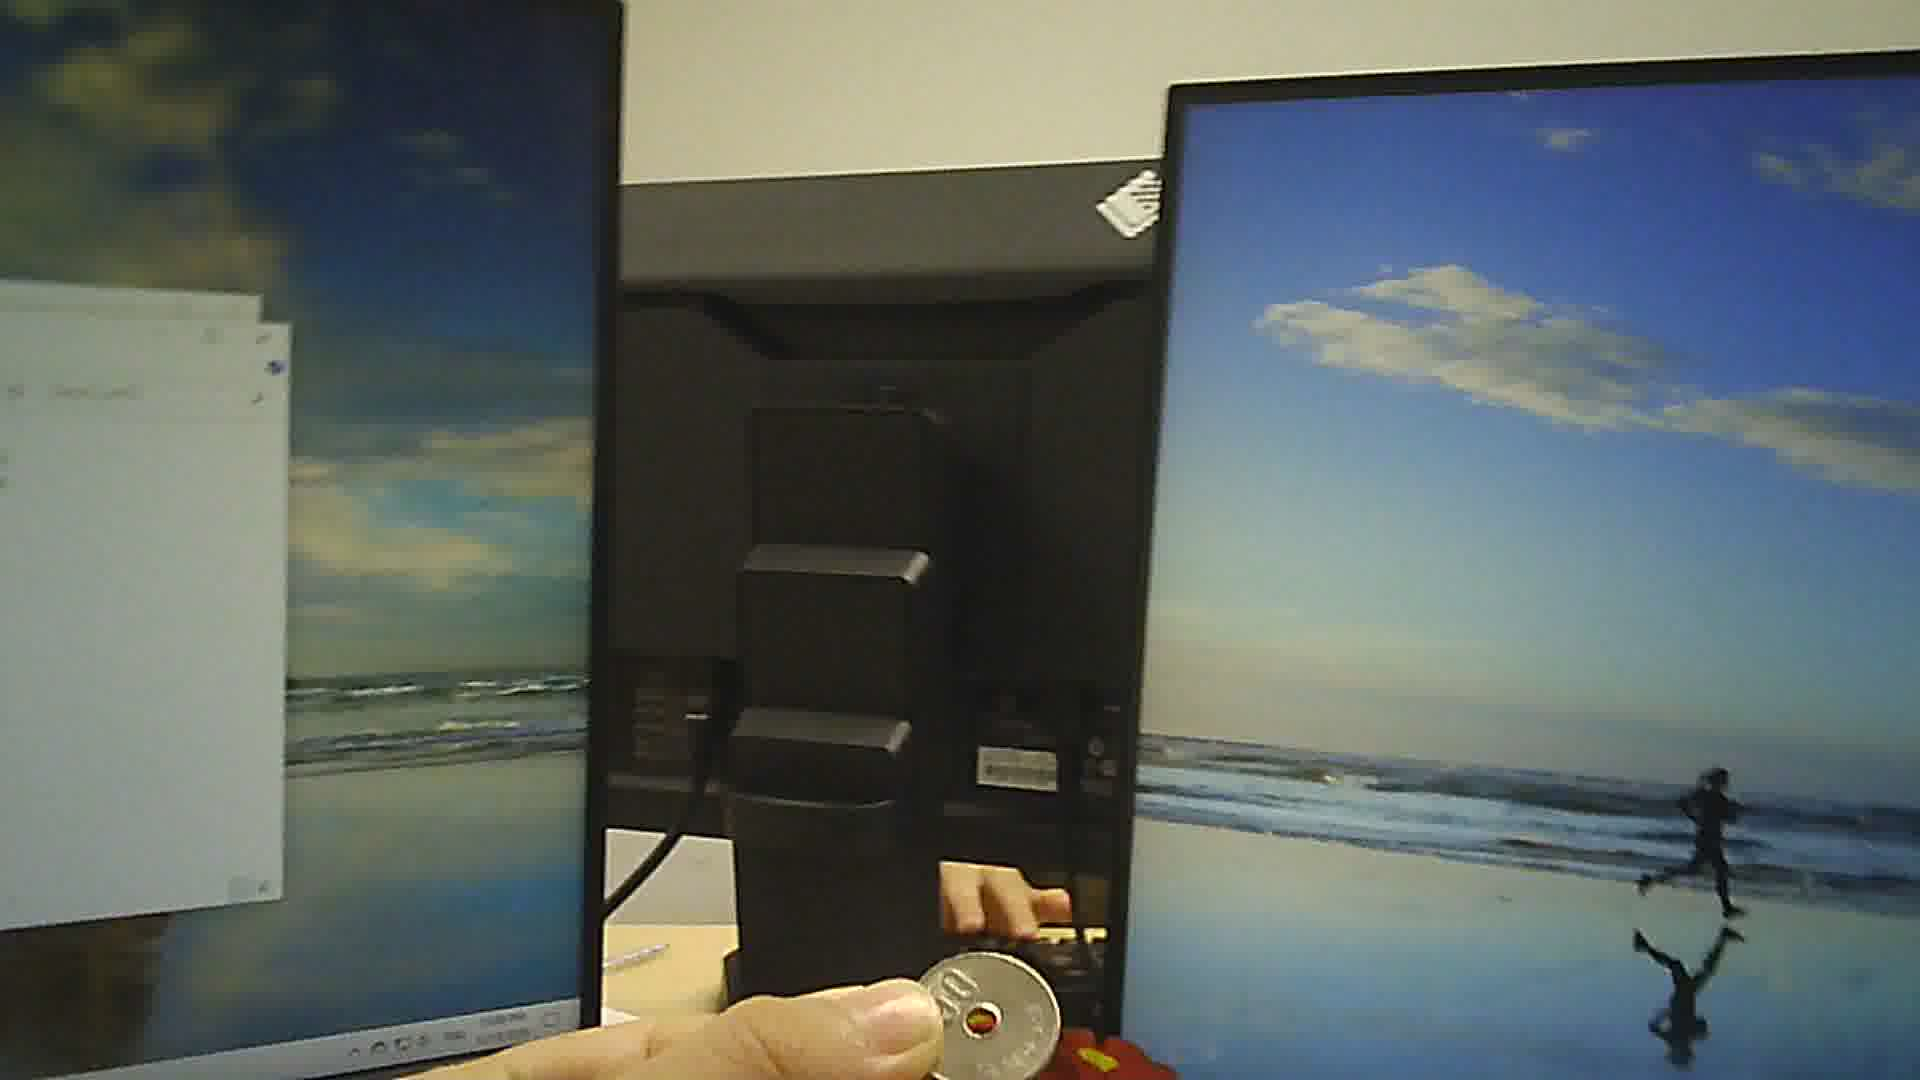50 Yen: (901, 949, 1065, 1079)
